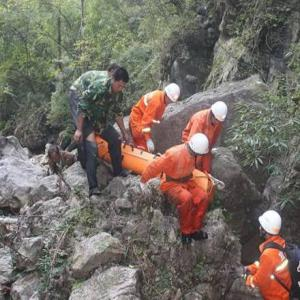none: (110, 66, 130, 94)
white: (256, 210, 283, 242), (190, 132, 210, 159), (210, 103, 229, 126), (163, 84, 180, 108)
